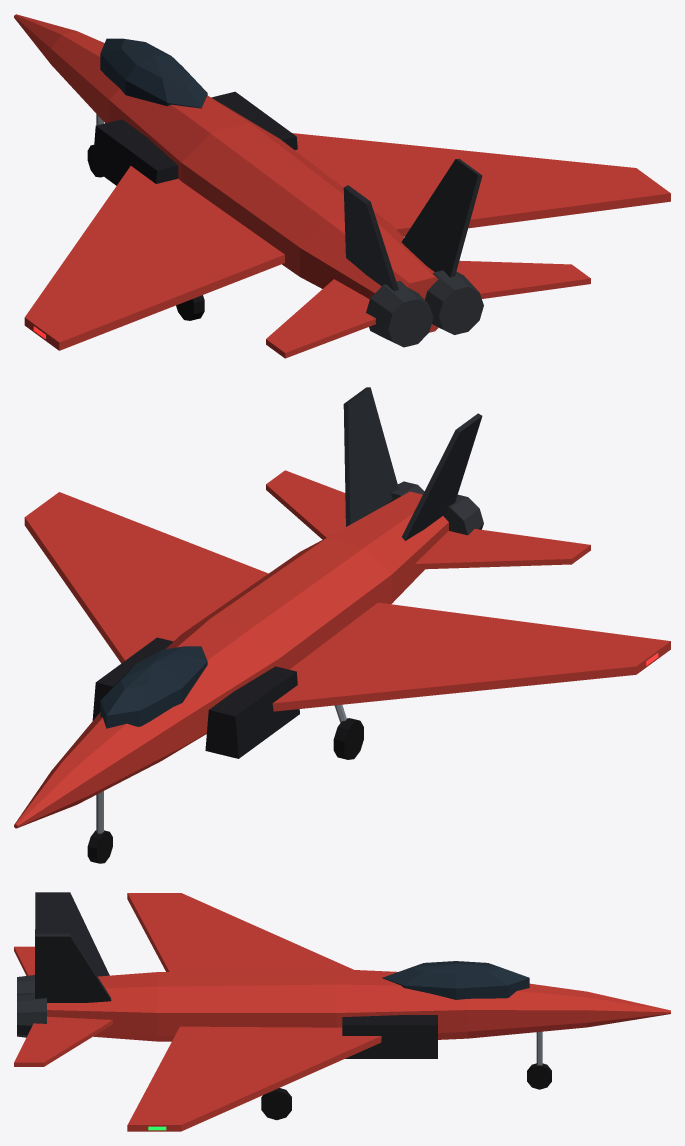
Rendered from jet.glb.
3 views of the same model, one above another, from view 1: azimuth 30°, elevation 25°; view 2: azimuth 150°, elevation 25°; view 3: azimuth 270°, elevation 25° (orthographic). The views are drawn at different scales.
Parts seen in each view (by area): view 1: jet_Body; view 2: jet_Body; view 3: jet_Body.
Part boxes in pixels (x1,y1,x2,y2): jet_Body: (14,14,670,358); jet_Body: (14,387,670,863); jet_Body: (14,892,670,1131).
Size of the model in its own units: 9.22 by 3.23 by 11.
